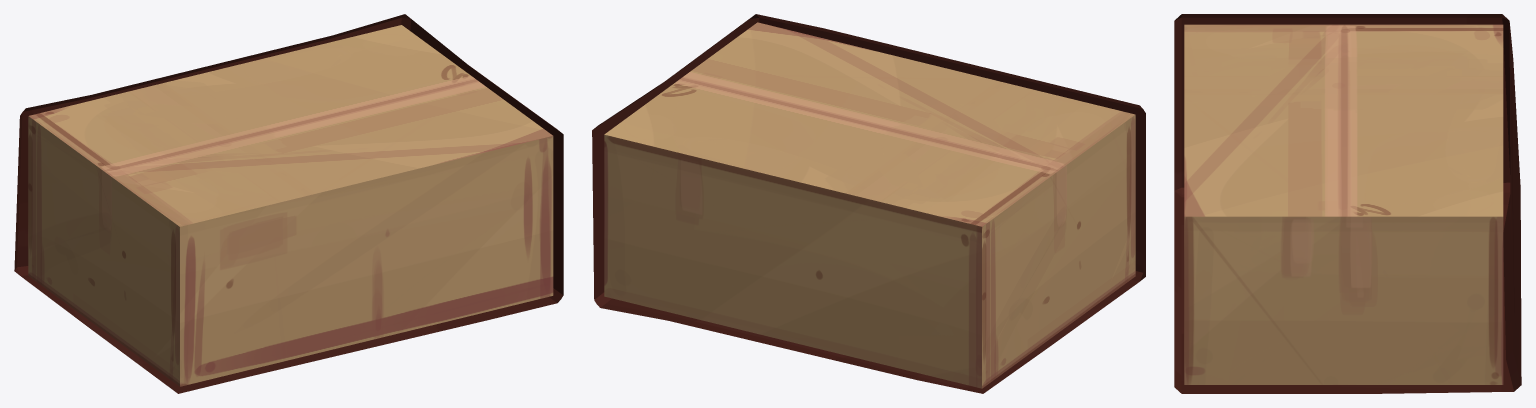
3 renders of one model, left to right at view 1: azimuth 30°, elevation 25°; view 2: azimuth 150°, elevation 25°; view 3: azimuth 270°, elevation 25°, orthographic. The views are drawn at different scales.
Parts seen in each view (by area): view 1: Box_02; view 2: Box_02; view 3: Box_02.
Boxes of the visible parts, x1,y1,x2,y2 form: Box_02: (14,14,563,393); Box_02: (592,14,1145,393); Box_02: (1174,14,1521,393).
Bounding box in the file's own units: 1.98 × 0.8456 × 1.44.
